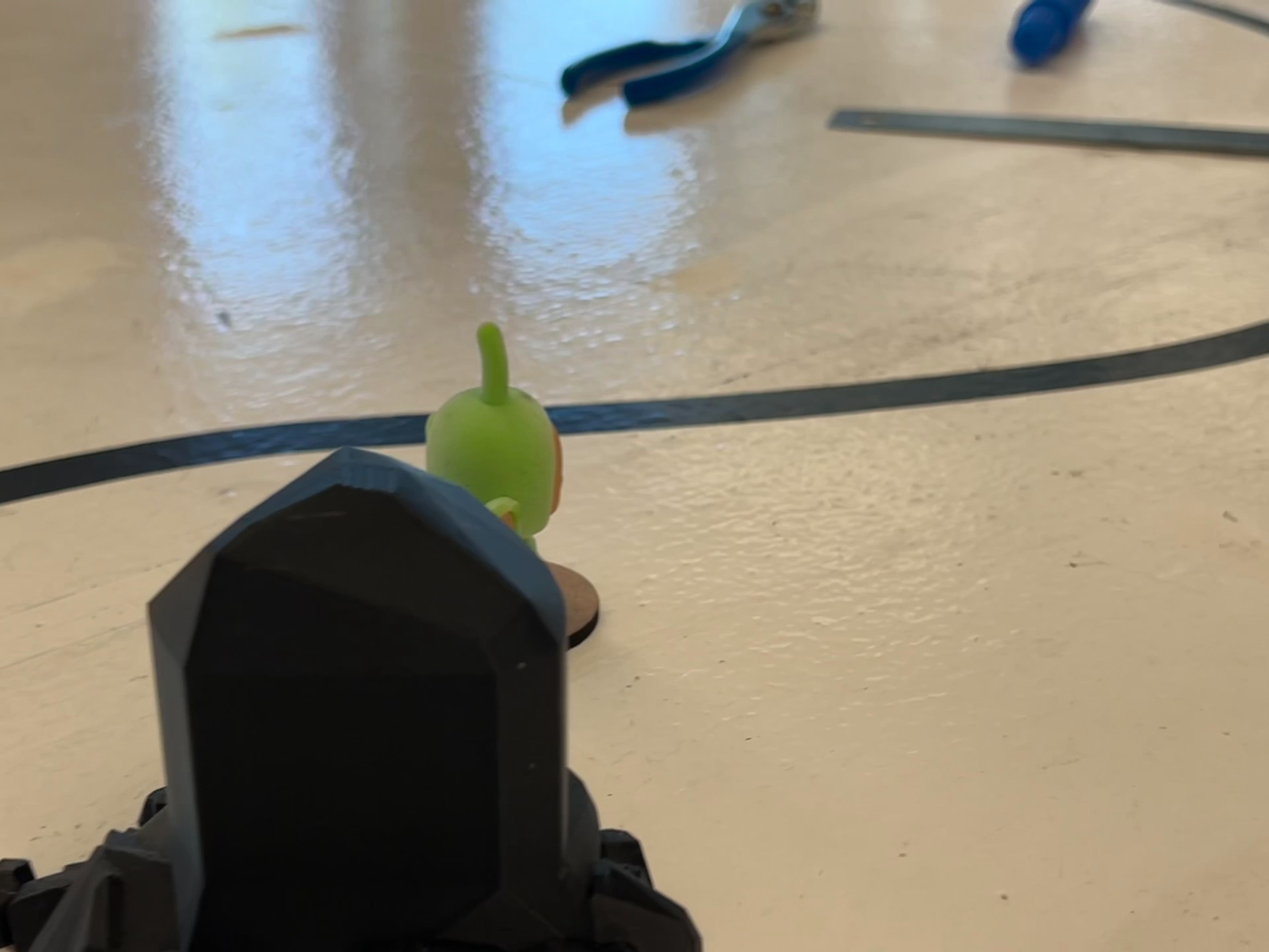teletubby: (426, 323, 562, 550)
